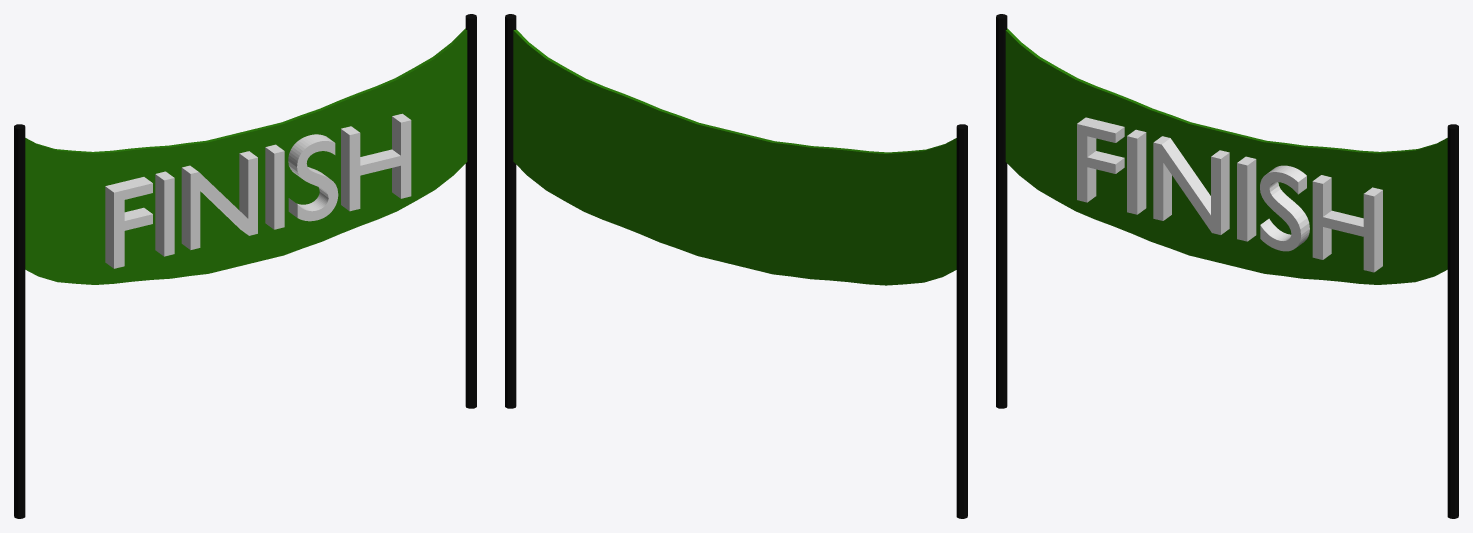
Rendered from finishline 1.fbx.
3 views of the same model, side by side, from view 1: azimuth 30°, elevation 25°; view 2: azimuth 150°, elevation 25°; view 3: azimuth 330°, elevation 25° (orthographic).
Visible parts, largest first — view 1: Cube.007; view 2: Cube.007; view 3: Cube.007.
Boxes of the visible parts, x1,y1,x2,y2 form: Cube.007: (14, 14, 476, 518); Cube.007: (505, 14, 967, 518); Cube.007: (996, 14, 1458, 518).
Size of the model in its own units: 1915 by 1545 by 90.21.
